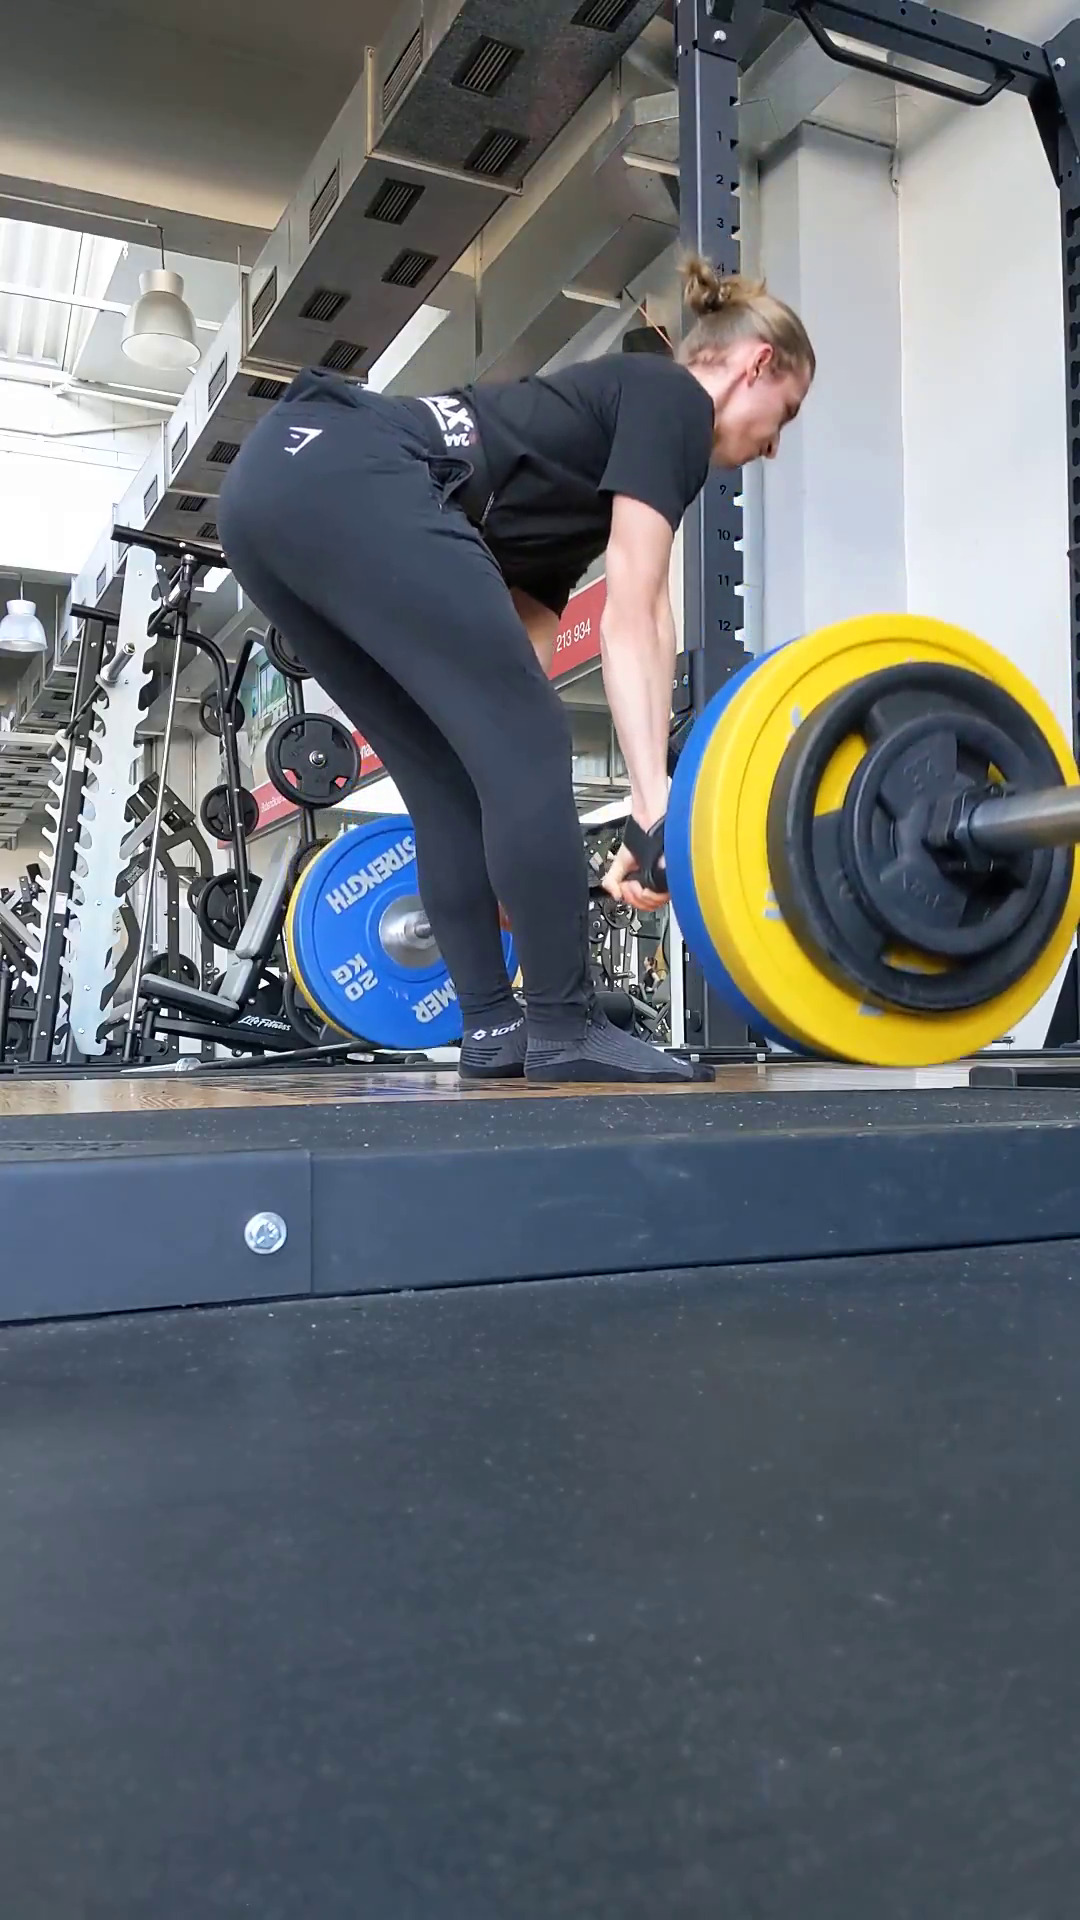barbell: (707, 612, 1079, 1067)
